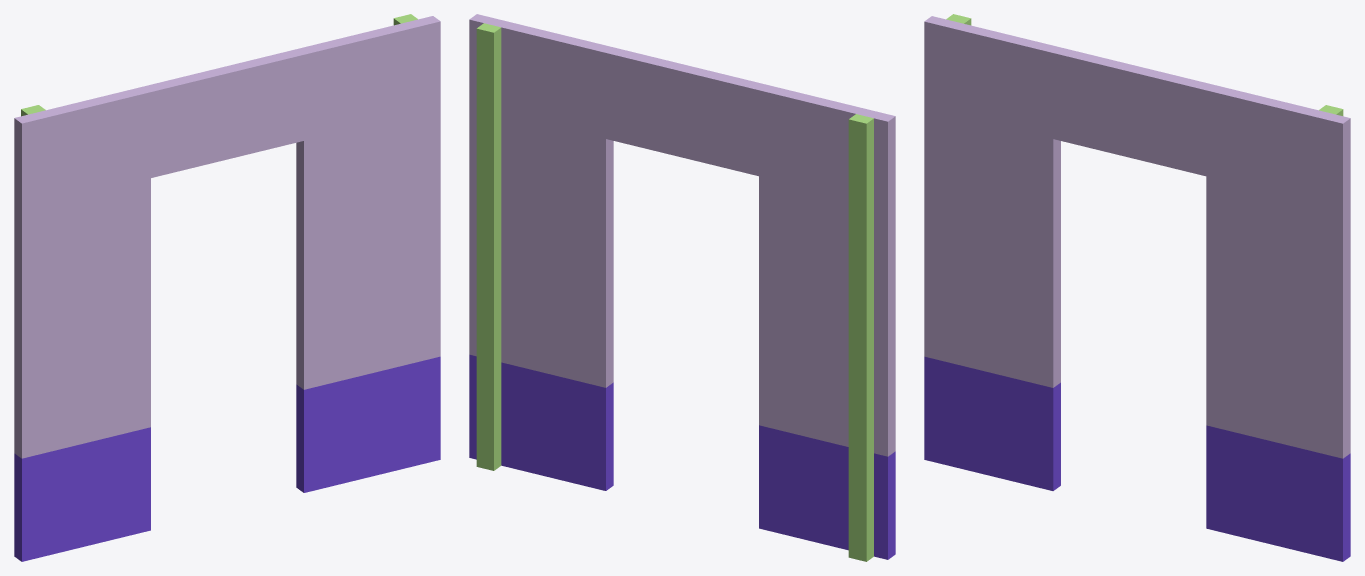
Rendered from Wall_Door.fbx.
3 views of the same model, side by side, from view 1: azimuth 30°, elevation 25°; view 2: azimuth 150°, elevation 25°; view 3: azimuth 330°, elevation 25° (orthographic).
Visible parts, largest first — view 1: Wall_Door; view 2: Wall_Door; view 3: Wall_Door.
Boxes of the visible parts, bbox=[...] form: Wall_Door: bbox=[14, 14, 440, 561]; Wall_Door: bbox=[469, 14, 895, 561]; Wall_Door: bbox=[924, 14, 1350, 561].
Bounding box in the file's own units: 200 × 200 × 12.42.
